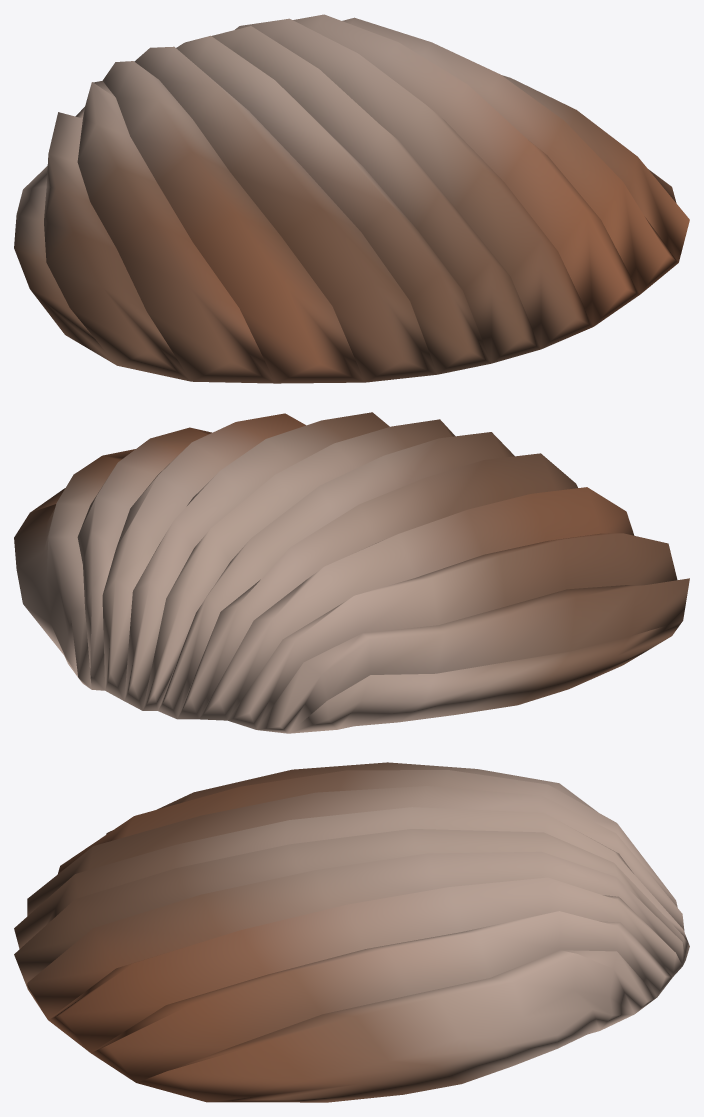
File: underwater-shells-cockle-shell_v1.fbx
The picture shows the model from 3 angles, top to bottom: view 1: azimuth 30°, elevation 25°; view 2: azimuth 150°, elevation 25°; view 3: azimuth 270°, elevation 25°; orthographic projection.
Visible parts, largest first — view 1: Cockle Shell_v1; view 2: Cockle Shell_v1; view 3: Cockle Shell_v1.
Boxes of the visible parts, box(x1,y1,x2,y2) form: Cockle Shell_v1: box(14, 14, 689, 383); Cockle Shell_v1: box(14, 412, 689, 733); Cockle Shell_v1: box(14, 762, 689, 1102).
Size of the model in its own units: 0.06 by 0.0139 by 0.058.
